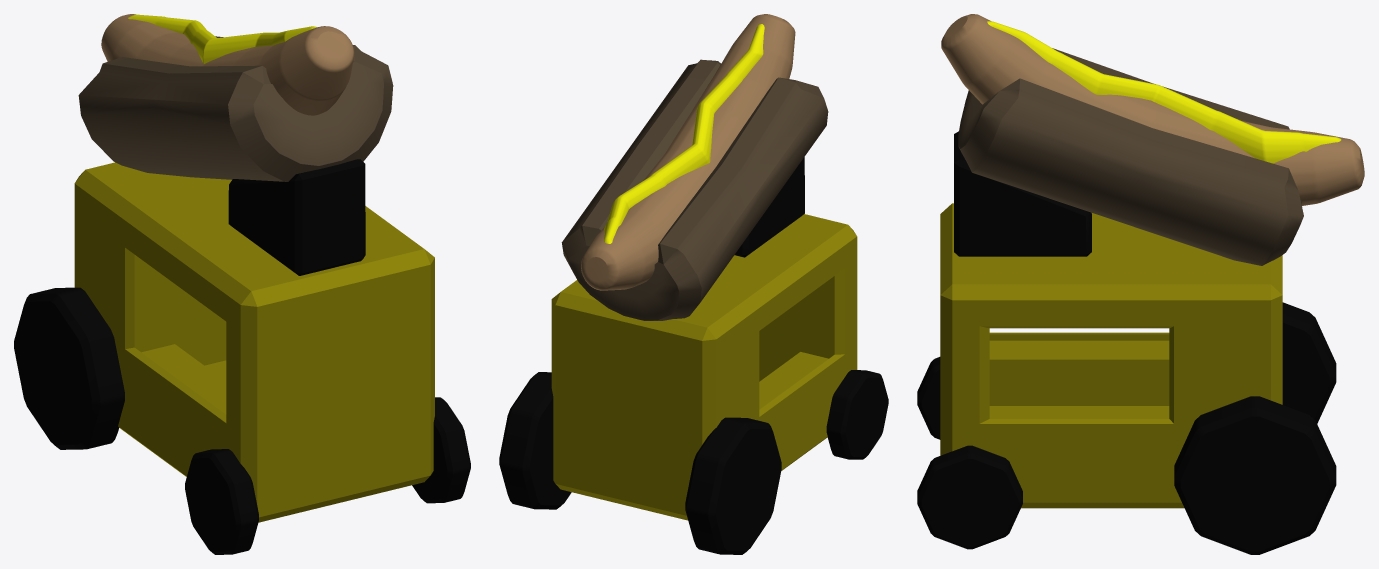
Rendered from hot dawg export mk2.fbx.
3 views of the same model, side by side, from view 1: azimuth 30°, elevation 25°; view 2: azimuth 150°, elevation 25°; view 3: azimuth 270°, elevation 25° (orthographic). The views are drawn at different scales.
Parts seen in each view (by area): view 1: group3_pCylinder2; view 2: group3_pCylinder2; view 3: group3_pCylinder2.
Part boxes in pixels (<box>): group3_pCylinder2: <box>14,14,470,554</box>; group3_pCylinder2: <box>499,14,888,554</box>; group3_pCylinder2: <box>917,14,1364,554</box>.
Bounding box in the file's own units: 0.0727 × 0.1354 × 0.1148.
